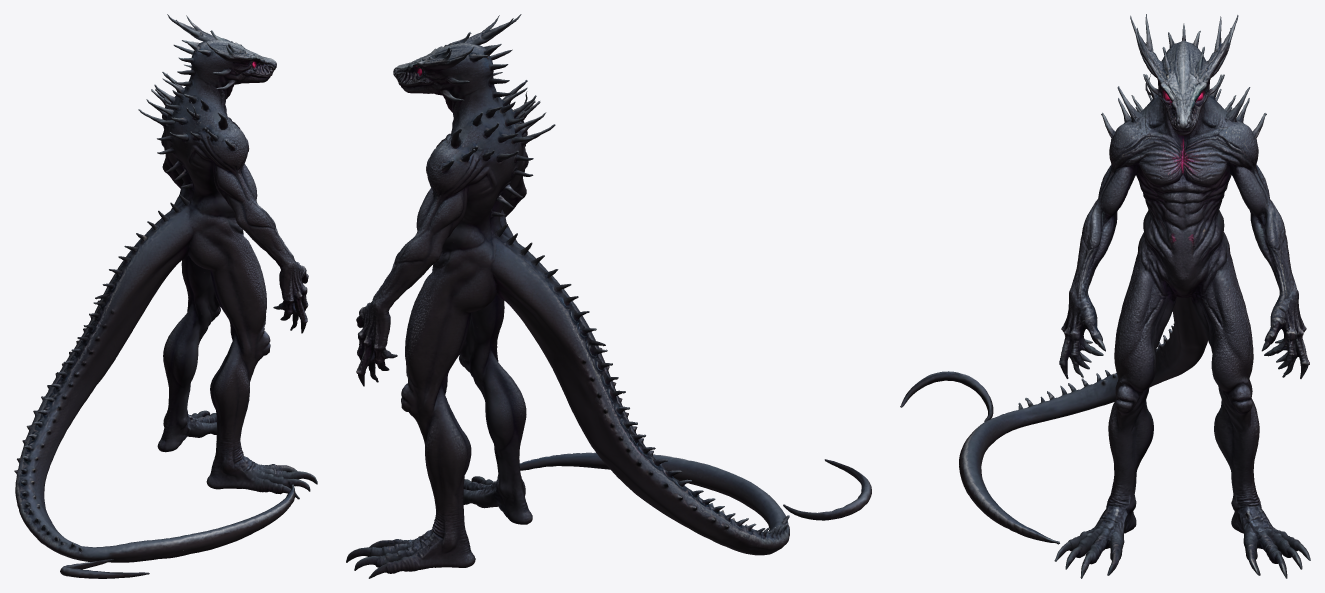
File: reptilian.glb
3 renders of one model, left to right at view 1: azimuth 30°, elevation 25°; view 2: azimuth 150°, elevation 25°; view 3: azimuth 270°, elevation 25°, orthographic. The views are drawn at different scales.
Visible parts, largest first — view 1: tripo_node_cc2d1aaa-53b4-49df-b6b7-5e6d17d29d53; view 2: tripo_node_cc2d1aaa-53b4-49df-b6b7-5e6d17d29d53; view 3: tripo_node_cc2d1aaa-53b4-49df-b6b7-5e6d17d29d53.
Part boxes in pixels (x1,y1,x2,y2): tripo_node_cc2d1aaa-53b4-49df-b6b7-5e6d17d29d53: (14,14,317,578); tripo_node_cc2d1aaa-53b4-49df-b6b7-5e6d17d29d53: (346,14,871,578); tripo_node_cc2d1aaa-53b4-49df-b6b7-5e6d17d29d53: (900,14,1310,578).
Size of the model in its own units: 0.7158 by 0.9807 by 0.7052.
Materials: 1 (1 with a texture image).
